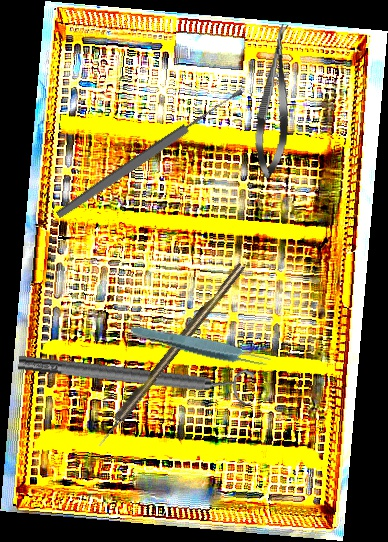Fixation Ring: (16, 340, 255, 410)
Hook Surgical: (92, 261, 248, 449)
Micro Scissor: (251, 22, 299, 180)
Surgical Spoon: (54, 86, 246, 221)
Tissue Forceps: (128, 321, 273, 372)
